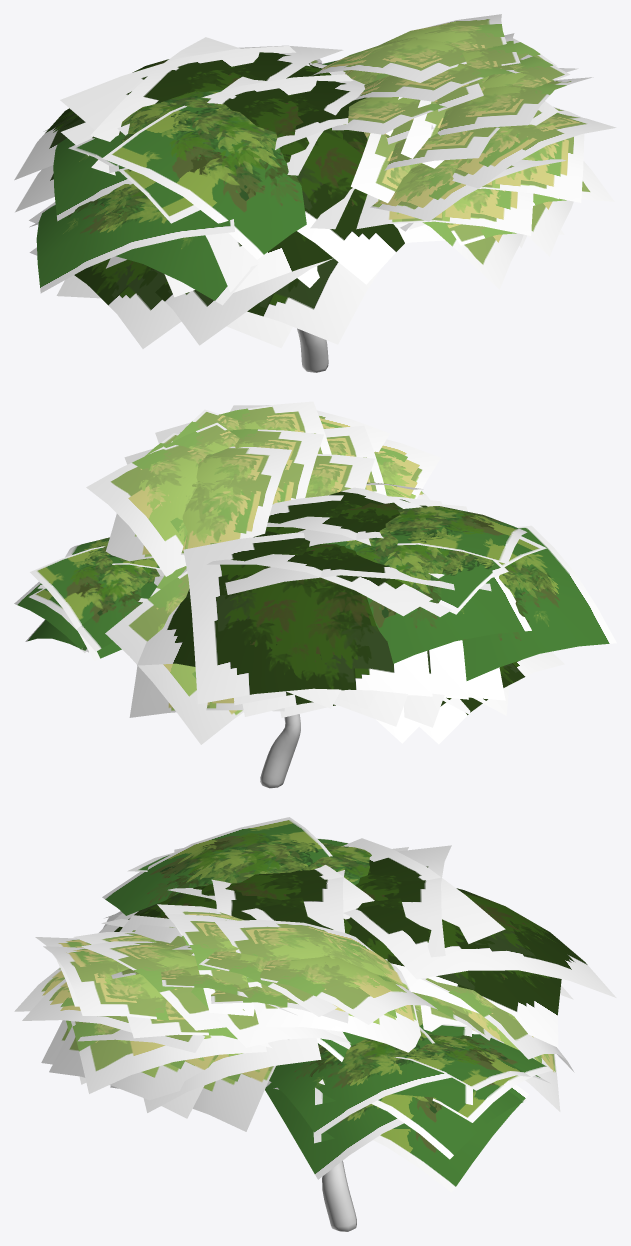
The model's file is Tree.fbx.
3 views of the same model, one above another, from view 1: azimuth 30°, elevation 25°; view 2: azimuth 150°, elevation 25°; view 3: azimuth 270°, elevation 25° (orthographic). The views are drawn at different scales.
Visible parts, largest first — view 1: tree branch green 1, Cube; view 2: tree branch green 1, Cube; view 3: tree branch green 1, Cube.
Part boxes in pixels (x1,y1,x2,y2): tree branch green 1: [14, 14, 616, 348]; Cube: [297, 328, 328, 372]; tree branch green 1: [14, 401, 616, 744]; Cube: [260, 714, 300, 788]; tree branch green 1: [14, 817, 616, 1192]; Cube: [322, 1161, 356, 1231].
Bounding box in the file's own units: 15.12 × 8.24 × 13.61.
